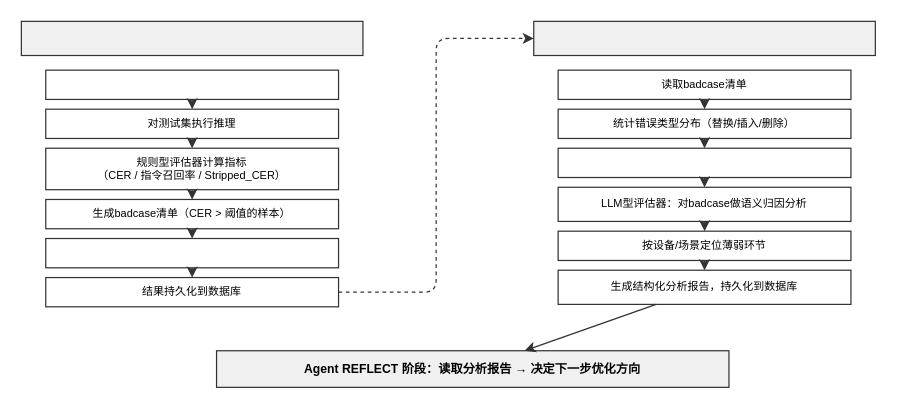
Some shapes in this 897 by 409 pixel diagram are drawn without their labels. Each missing label, with the box of its shape:
Agent 调用 analyze_results 技能: (533, 20, 875, 56)
Agent 调用 evaluate_model 技能: (20, 20, 363, 56)
加载模型checkpoint: (45, 69, 339, 99)
按设备/场景维度聚合统计: (45, 237, 339, 268)
提取Top-N混淆对: (557, 147, 851, 178)
